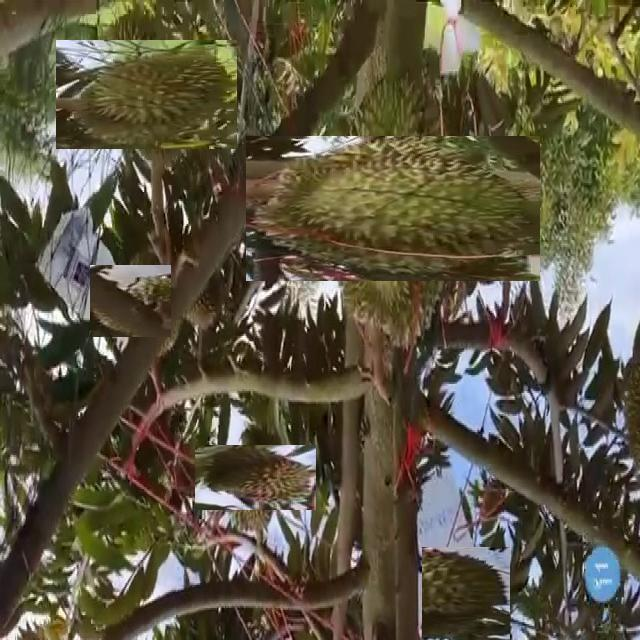durian: (284, 99, 504, 319), (74, 22, 220, 167), (101, 254, 196, 349), (209, 430, 302, 524), (419, 550, 513, 640), (171, 245, 230, 337)
